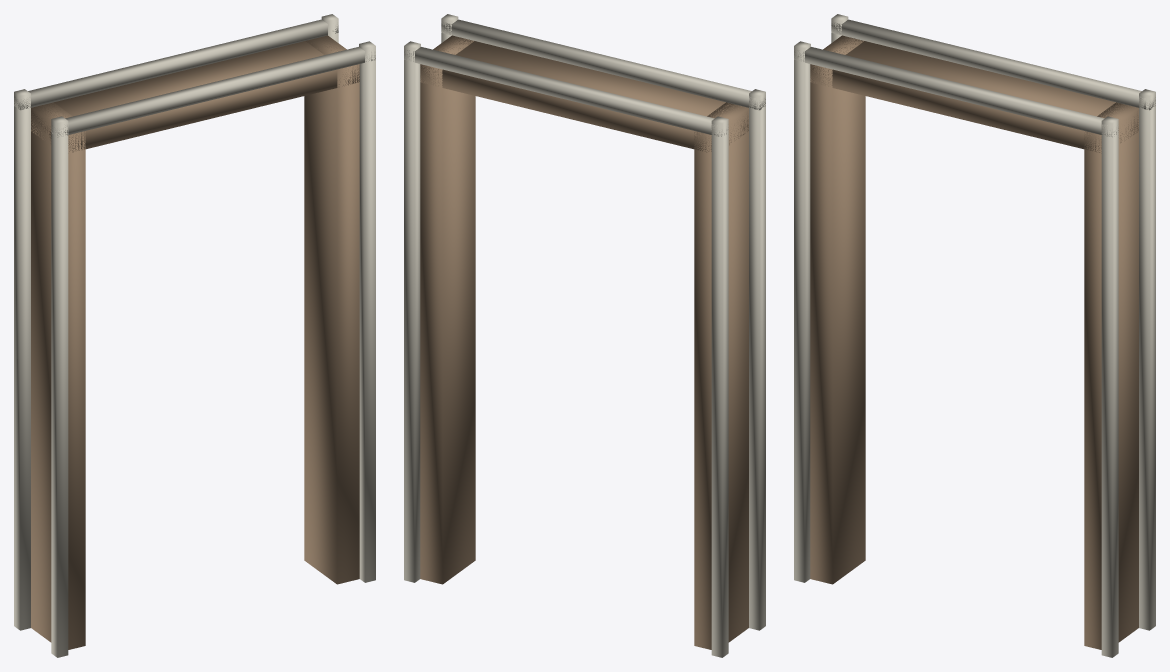
The model's file is doorway_painted_trim_w106_h200_d24.glb.
The picture shows the model from 3 angles, left to right: view 1: azimuth 30°, elevation 25°; view 2: azimuth 150°, elevation 25°; view 3: azimuth 330°, elevation 25°; orthographic projection.
Parts seen in each view (by area): view 1: world; view 2: world; view 3: world.
Boxes of the visible parts, x1=… form: world: x1=14, y1=14, x2=375, y2=657; world: x1=404, y1=14, x2=765, y2=657; world: x1=794, y1=14, x2=1155, y2=657.
Size of the model in its own units: 1.34 by 2.15 by 0.3178.
